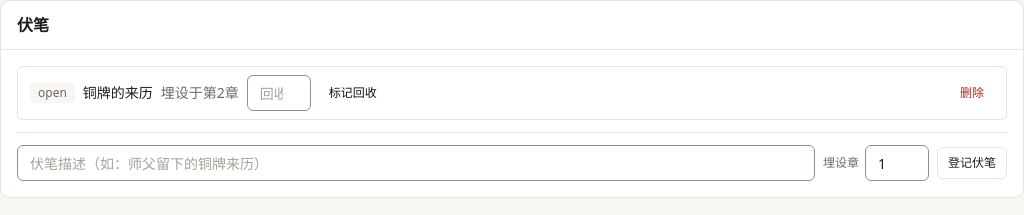
Scenario: ForeshadowingsSection（C2） › 删除升 L2：点取消收簇且未发 DELETE
Expected: the text "铜牌的来历" is shown, [83,83,153,103]
Expected: the text "该伏笔记录将删除，不可恢复。" is not shown
Click the button "删除" at (972, 93), box [950,77,994,109]
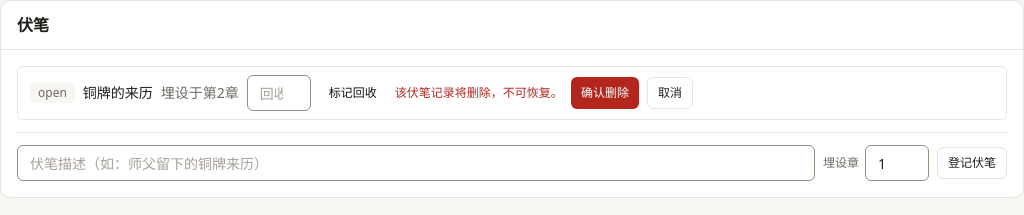
Result: the text "该伏笔记录将删除，不可恢复。" is shown at [395,85,563,101]
Click the button "取消" at (670, 93), box [647,77,693,109]
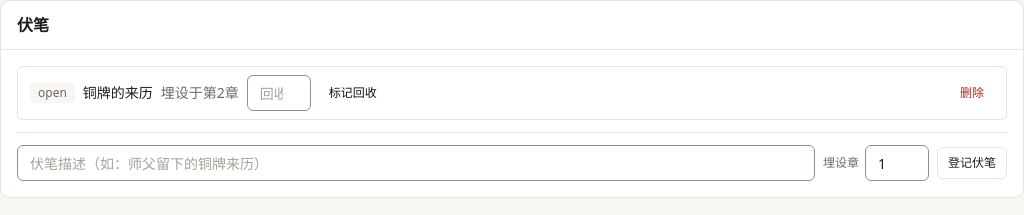
Result: the text "该伏笔记录将删除，不可恢复。" is gone
